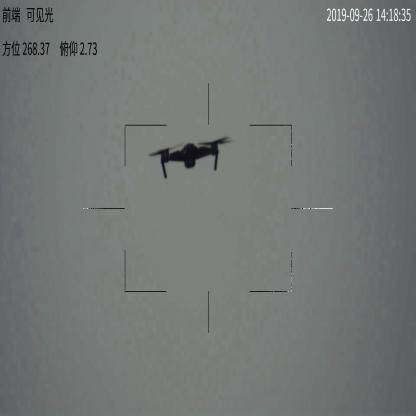uav: (146, 136, 232, 180)
